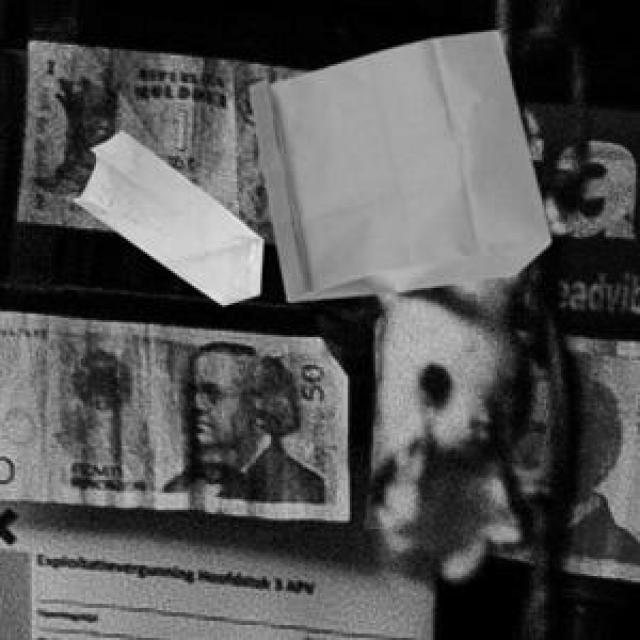paper: (245, 28, 546, 297)
